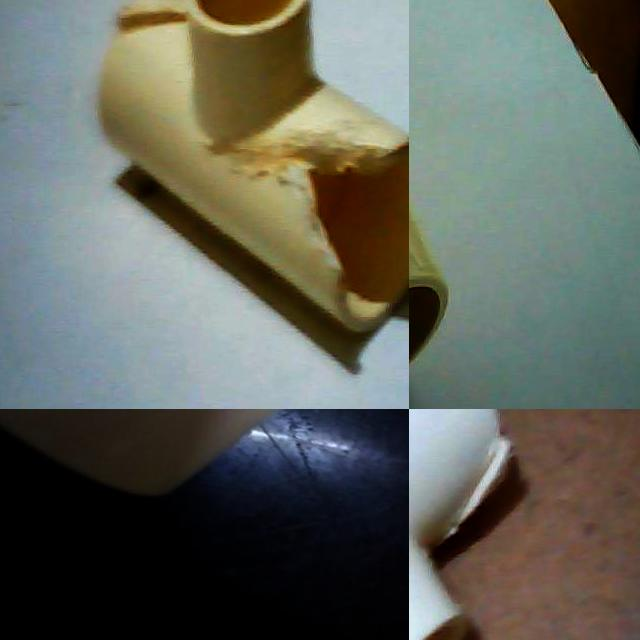Defective: (225, 128, 377, 292), (310, 170, 409, 303), (434, 430, 535, 550), (120, 0, 185, 66)
T Joint: (105, 0, 409, 363), (409, 409, 514, 640)
